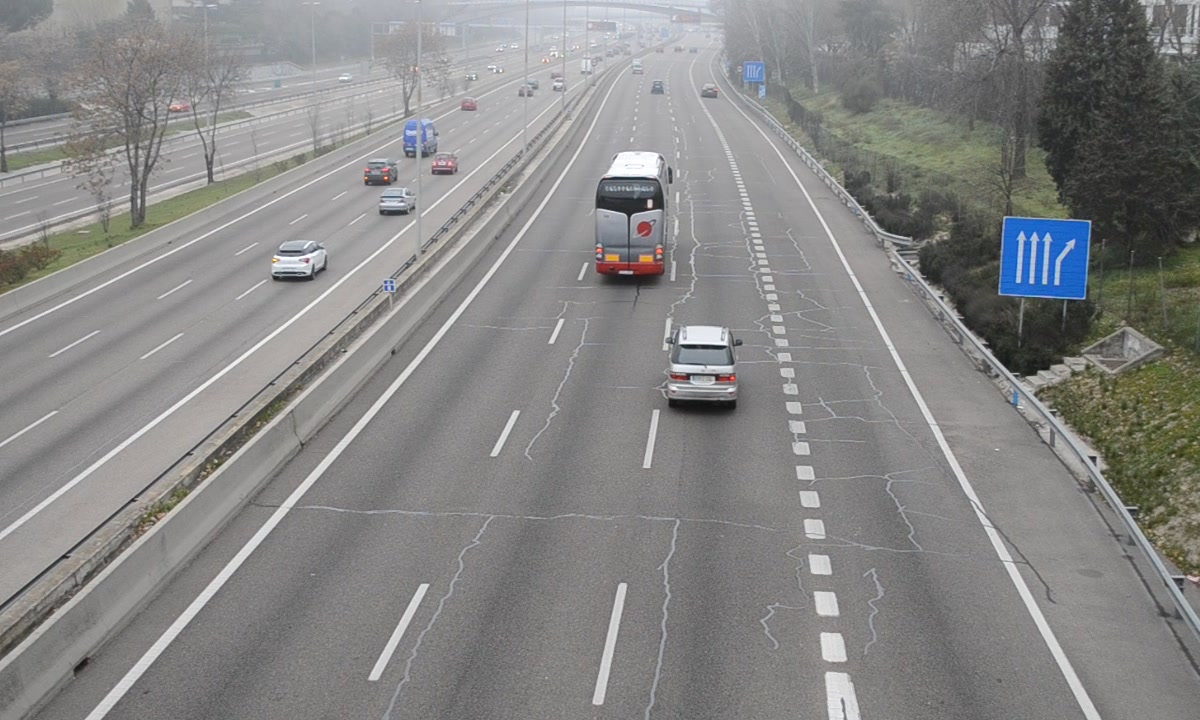bus: (595, 151, 668, 280)
car: (665, 327, 737, 408)
